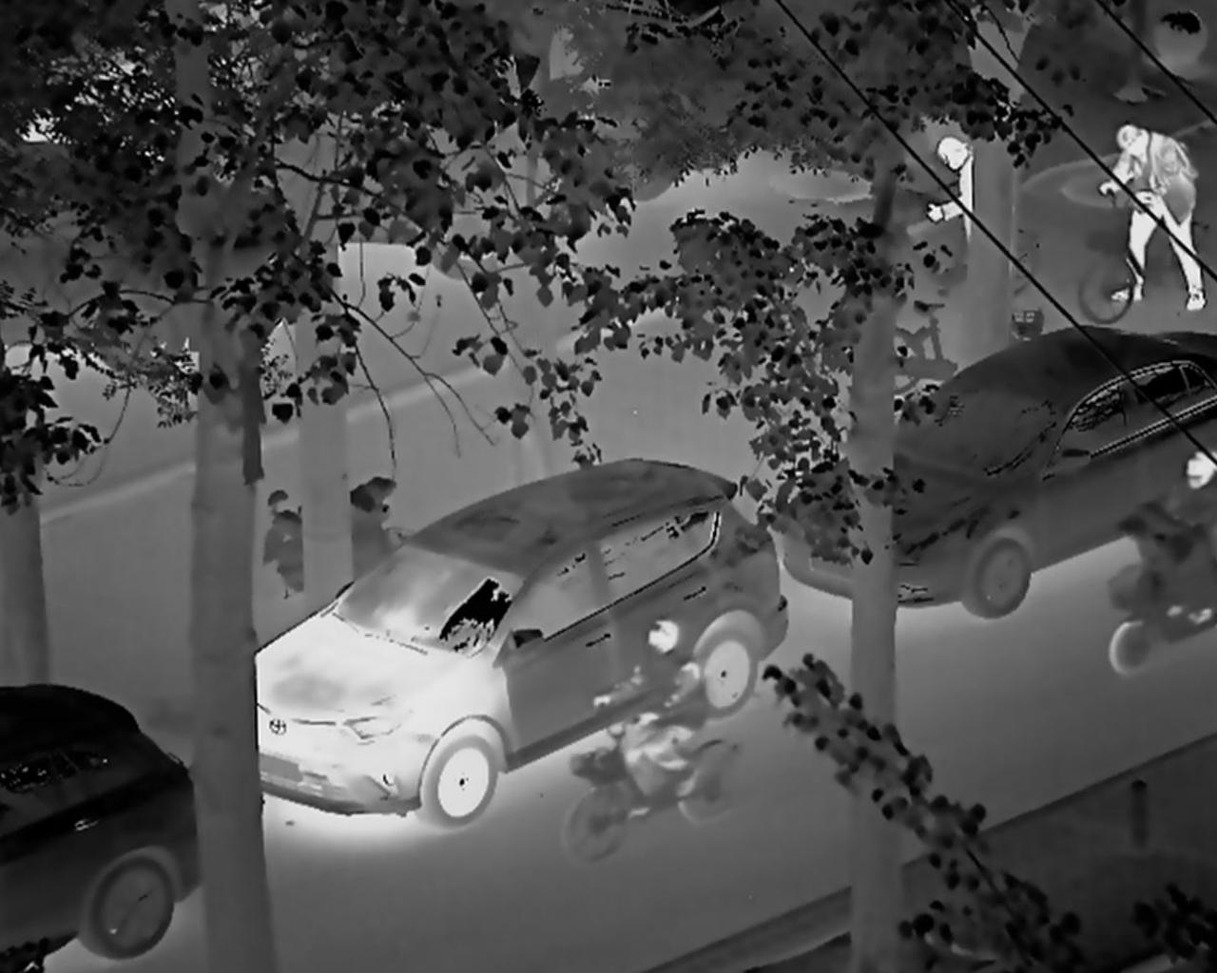person: (586, 610, 742, 868), (1098, 427, 1217, 691), (1084, 104, 1213, 325), (930, 136, 991, 297)
